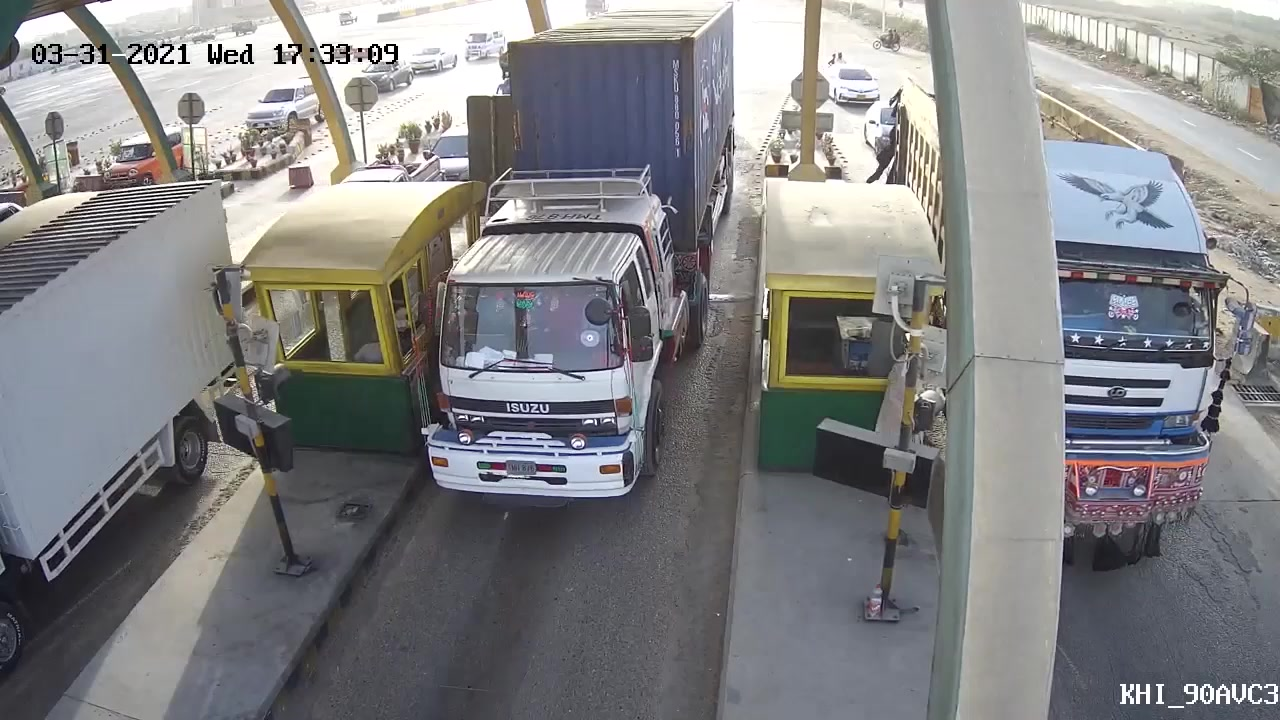F6: (399, 35, 709, 547)
